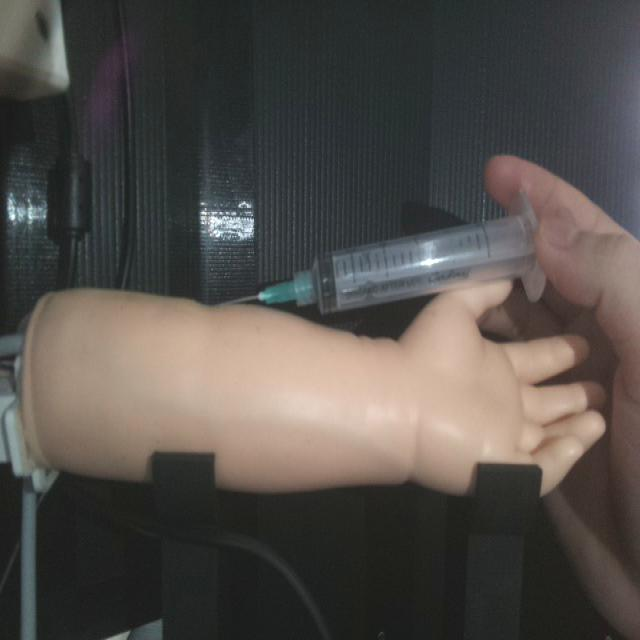Below 15 degrees: (220, 188, 549, 317)
